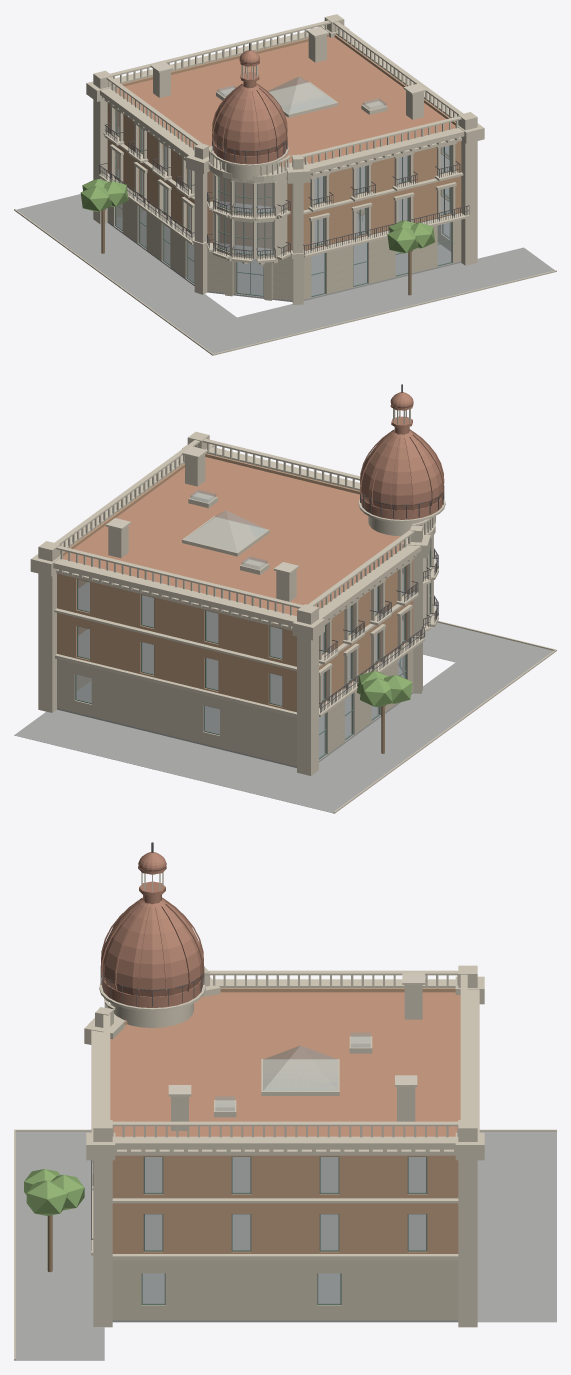
File: clay-chamfer-corner-dome-block-clay-v006.glb
3 renders of one model, top to bottom at view 1: azimuth 30°, elevation 25°; view 2: azimuth 150°, elevation 25°; view 3: azimuth 270°, elevation 25°, orthographic. The views are drawn at different scales.
Visible parts, largest first — view 1: CLAY_STONE, CLAY_FOUNDATION, CLAY_MEMBRANE, CLAY_WALL, CLAY_GLASS, CLAY_RUSTIC, CLAY_COPPER, CLAY_HARDWARE, CLAY_TRIM, CLAY_PALE, CLAY_PLANTING, CLAY_FLOOR; view 2: CLAY_STONE, CLAY_FOUNDATION, CLAY_MEMBRANE, CLAY_WALL, CLAY_RUSTIC, CLAY_GLASS, CLAY_COPPER, CLAY_PALE, CLAY_FLOOR, CLAY_HARDWARE, CLAY_TRIM, CLAY_PLANTING; view 3: CLAY_MEMBRANE, CLAY_STONE, CLAY_FOUNDATION, CLAY_WALL, CLAY_RUSTIC, CLAY_GLASS, CLAY_COPPER, CLAY_FLOOR, CLAY_PALE, CLAY_PLANTING, CLAY_TRIM.
Boxes of the visible parts, x1,y1,x2,y2 form: CLAY_STONE: (14, 14, 556, 355); CLAY_FOUNDATION: (16, 194, 554, 354); CLAY_MEMBRANE: (114, 36, 455, 165); CLAY_WALL: (107, 34, 461, 251); CLAY_GLASS: (116, 76, 451, 295); CLAY_RUSTIC: (107, 198, 461, 300); CLAY_COPPER: (212, 50, 287, 164); CLAY_HARDWARE: (99, 43, 469, 259); CLAY_TRIM: (115, 110, 452, 297); CLAY_PALE: (108, 24, 458, 175); CLAY_PLANTING: (80, 179, 435, 253); CLAY_FLOOR: (118, 127, 449, 254); CLAY_STONE: (30, 431, 556, 813); CLAY_FOUNDATION: (14, 622, 553, 813); CLAY_MEMBRANE: (63, 457, 403, 616); CLAY_WALL: (57, 453, 413, 712); CLAY_RUSTIC: (57, 649, 413, 766); CLAY_GLASS: (76, 489, 405, 757); CLAY_COPPER: (360, 392, 444, 519); CLAY_PALE: (60, 408, 434, 615); CLAY_FLOOR: (78, 573, 403, 705); CLAY_HARDWARE: (319, 384, 444, 713); CLAY_TRIM: (75, 539, 430, 759); CLAY_PLANTING: (357, 671, 412, 707); CLAY_MEMBRANE: (110, 992, 460, 1136); CLAY_STONE: (14, 965, 556, 1360); CLAY_FOUNDATION: (14, 1131, 556, 1360); CLAY_WALL: (112, 988, 458, 1253); CLAY_RUSTIC: (112, 1260, 458, 1320); CLAY_GLASS: (142, 1032, 425, 1303); CLAY_COPPER: (100, 852, 204, 1007); CLAY_FLOOR: (145, 1157, 425, 1249); CLAY_PALE: (104, 872, 458, 1137); CLAY_PLANTING: (24, 1169, 84, 1215); CLAY_TRIM: (141, 1156, 427, 1305).
Bounding box in the file's own units: 36 × 25.38 × 36.
